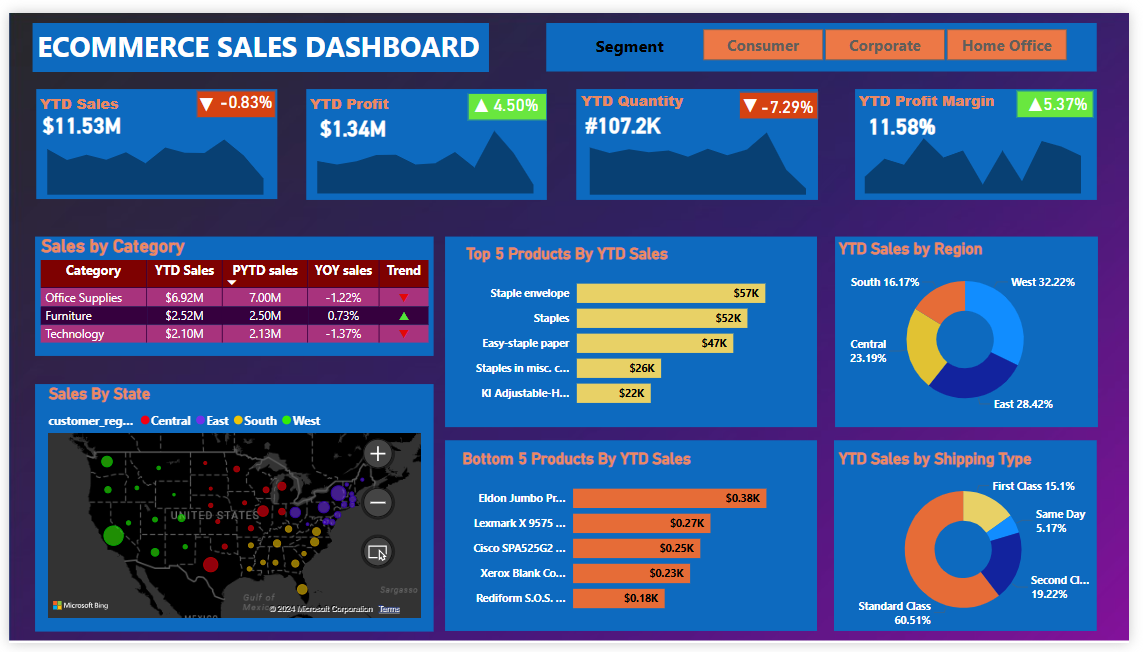

The page's visual inventory and layout, read from the dashboard file:
{"tool":"powerbi","page":{"name":"Page 1","canvas":[1280,720],"ordinal":0},"visuals":[{"type":"shape","box":[27.5,11.2,521.2,56.2],"z":0},{"type":"textbox","box":[27.7,12.1,551.3,56.7],"z":1000},{"type":"shape","box":[31.4,86.9,275.1,125.5],"z":2000},{"type":"card","fields":{"Values":["ecommerce_data.YTD Sales"]},"box":[31.6,103.3,103.8,49.5],"z":3000},{"type":"stackedAreaChart","fields":{"Category":["calendar.Month"],"Y":["Sum(ecommerce_data.sales_per_order)"]},"box":[30,119.3,275,92.9],"z":4000},{"type":"shape","box":[215,88.8,90.5,31.4],"z":5000},{"type":"card","fields":{"Values":["ecommerce_data.YOY sales"]},"box":[215,87.5,110,30],"z":6000},{"type":"card","fields":{"Values":["ecommerce_data.Sales Icon"]},"box":[162.9,85.7,125.5,38.6],"z":7000},{"type":"textbox","box":[30,87.5,128.8,32.5],"z":8000},{"type":"shape","box":[339.8,87.3,274.8,126.3],"z":9000},{"type":"card","fields":{"Values":["ecommerce_data.YTD Profit"]},"box":[340.8,106.5,103.8,49.5],"z":10000},{"type":"stackedAreaChart","fields":{"Category":["calendar.Month"],"Y":["Sum(ecommerce_data.profit_per_order)"]},"box":[339,118.2,275.1,92.9],"z":11000},{"type":"shape","box":[524.2,92,90.5,31.4],"z":12000},{"type":"card","fields":{"Values":["ecommerce_data.YOY profit"]},"box":[523.6,91.7,109.8,29],"z":13000},{"type":"card","fields":{"Values":["ecommerce_data.Profit Icon"]},"box":[476.8,87.8,125.5,38.6],"z":14000},{"type":"textbox","box":[339.3,87.8,123.1,35],"z":15000},{"type":"shape","box":[648.5,86.4,275.8,126.2],"z":16000},{"type":"shape","box":[833.8,90.6,90.6,31.6],"z":17000},{"type":"card","fields":{"Values":["ecommerce_data.YTD Concatinate Quantity"]},"box":[650,103,103.8,49.5],"z":18000},{"type":"stackedAreaChart","fields":{"Category":["calendar.Month"],"Y":["Sum(ecommerce_data.order_quantity)"]},"box":[650,120,275,92.9],"z":19000},{"type":"card","fields":{"Values":["ecommerce_data.YOY Quantity"]},"box":[833.7,92.9,109.8,29],"z":20000},{"type":"card","fields":{"Values":["ecommerce_data.Quantity Icon"]},"box":[824.2,87.8,45.3,38.4],"z":21000},{"type":"textbox","box":[648.5,83.7,138.6,35.7],"z":22000},{"type":"shape","box":[966.9,87.1,275.8,126.2],"z":23000},{"type":"shape","box":[1150.9,89.3,88.1,31.4],"z":24000},{"type":"card","fields":{"Values":["ecommerce_data.YTD Profit Margin"]},"box":[968.4,103.7,103.8,49.5],"z":25000},{"type":"stackedAreaChart","fields":{"Category":["calendar.Month"],"Y":["ecommerce_data.Profit Margin"]},"box":[963.9,118.2,275.1,92.9],"z":26000},{"type":"card","fields":{"Values":["ecommerce_data.YOY Profit Margin"]},"box":[1176.3,89.3,62.7,31.4],"z":27000},{"type":"card","fields":{"Values":["ecommerce_data.Profit margin Icon"]},"box":[1149.7,86.9,45.8,37.4],"z":28000},{"type":"textbox","box":[966.2,83.8,187.5,36.2],"z":29000},{"type":"shape","box":[30,255,455,136],"z":30000},{"type":"pivotTable","title":"Sales by Category","fields":{"Rows":["ecommerce_data.category_name"],"Values":["ecommerce_data.YTD Sales","ecommerce_data.PYTD sales","ecommerce_data.YOY sales","ecommerce_data.Sales Icon"]},"box":[31.4,254.6,453.6,136.3],"z":31000},{"type":"shape","box":[30,423.8,455,282.5],"z":32000},{"type":"map","title":"Sales By State","fields":{"X":["us_state_long_lat_codes.longitude"],"Y":["us_state_long_lat_codes.latitude"],"Size":["ecommerce_data.YTD Sales"],"Series":["ecommerce_data.customer_region"]},"box":[40,423.8,436.2,272.5],"z":33000},{"type":"shape","box":[498.8,255,425,217.5],"z":34000},{"type":"shape","box":[498.8,488.8,425,217.5],"z":35000},{"type":"barChart","title":"Top 5 Products By YTD Sales","fields":{"Category":["ecommerce_data.product_name"],"Y":["ecommerce_data.YTD Sales"]},"box":[517.5,263.8,398.8,198.8],"z":36000},{"type":"shape","box":[943.8,255,300,217.5],"z":37000},{"type":"shape","box":[942.5,488.8,300,217.5],"z":38000},{"type":"donutChart","title":"YTD Sales by Region","fields":{"Category":["ecommerce_data.customer_region"],"Y":["ecommerce_data.YTD Sales"]},"box":[942.3,259,300,209],"z":39000},{"type":"shape","box":[614.1,10.9,628.6,55.5],"z":40000},{"type":"textbox","box":[633.4,19.3,153.2,38.6],"z":41000},{"type":"barChart","title":"Bottom 5 Products By YTD Sales","fields":{"Category":["ecommerce_data.product_name"],"Y":["ecommerce_data.YTD Sales"]},"box":[512.7,498.3,399.3,199.1],"z":42000},{"type":"donutChart","title":"YTD Sales by Shipping Type","fields":{"Y":["ecommerce_data.YTD Sales"],"Series":["ecommerce_data.shipping_type"]},"box":[943.4,498.3,295.6,208.7],"z":43000},{"type":"slicer","fields":{"Values":["ecommerce_data.customer_segment"]},"box":[767.3,12.1,465.7,49.5],"z":44000}]}

Visuals, with their boxes in screenshot pixels (x1, y1, x2, y2), scaled from the page's 1280x720 canvas onto the 1143x652 screenshot:
shape: BBox(25, 10, 490, 61)
textbox: BBox(25, 11, 517, 62)
shape: BBox(28, 79, 274, 192)
card - ecommerce_data.YTD Sales: BBox(28, 94, 121, 138)
stackedAreaChart - calendar.Month x Sum(ecommerce_data.sales_per_order): BBox(27, 108, 272, 192)
shape: BBox(192, 80, 273, 109)
card - ecommerce_data.YOY sales: BBox(192, 79, 290, 106)
card - ecommerce_data.Sales Icon: BBox(145, 78, 258, 113)
textbox: BBox(27, 79, 142, 109)
shape: BBox(303, 79, 549, 193)
card - ecommerce_data.YTD Profit: BBox(304, 96, 397, 141)
stackedAreaChart - calendar.Month x Sum(ecommerce_data.profit_per_order): BBox(303, 107, 548, 191)
shape: BBox(468, 83, 549, 112)
card - ecommerce_data.YOY profit: BBox(468, 83, 566, 109)
card - ecommerce_data.Profit Icon: BBox(426, 80, 538, 114)
textbox: BBox(303, 80, 413, 111)
shape: BBox(579, 78, 825, 193)
shape: BBox(745, 82, 825, 111)
card - ecommerce_data.YTD Concatinate Quantity: BBox(580, 93, 673, 138)
stackedAreaChart - calendar.Month x Sum(ecommerce_data.order_quantity): BBox(580, 109, 826, 193)
card - ecommerce_data.YOY Quantity: BBox(744, 84, 843, 110)
card - ecommerce_data.Quantity Icon: BBox(736, 80, 776, 114)
textbox: BBox(579, 76, 703, 108)
shape: BBox(863, 79, 1110, 193)
shape: BBox(1028, 81, 1106, 109)
card - ecommerce_data.YTD Profit Margin: BBox(865, 94, 957, 139)
stackedAreaChart - calendar.Month x ecommerce_data.Profit Margin: BBox(861, 107, 1106, 191)
card - ecommerce_data.YOY Profit Margin: BBox(1050, 81, 1106, 109)
card - ecommerce_data.Profit margin Icon: BBox(1027, 79, 1068, 113)
textbox: BBox(863, 76, 1030, 109)
shape: BBox(27, 231, 433, 354)
"Sales by Category" pivotTable: BBox(28, 231, 433, 354)
shape: BBox(27, 384, 433, 640)
"Sales By State" map: BBox(36, 384, 425, 631)
shape: BBox(445, 231, 825, 428)
shape: BBox(445, 443, 825, 640)
"Top 5 Products By YTD Sales" barChart: BBox(462, 239, 818, 419)
shape: BBox(843, 231, 1111, 428)
shape: BBox(842, 443, 1110, 640)
"YTD Sales by Region" donutChart: BBox(841, 235, 1109, 424)
shape: BBox(548, 10, 1110, 60)
textbox: BBox(566, 17, 702, 52)
"Bottom 5 Products By YTD Sales" barChart: BBox(458, 451, 814, 632)
"YTD Sales by Shipping Type" donutChart: BBox(842, 451, 1106, 640)
slicer - ecommerce_data.customer_segment: BBox(685, 11, 1101, 56)
